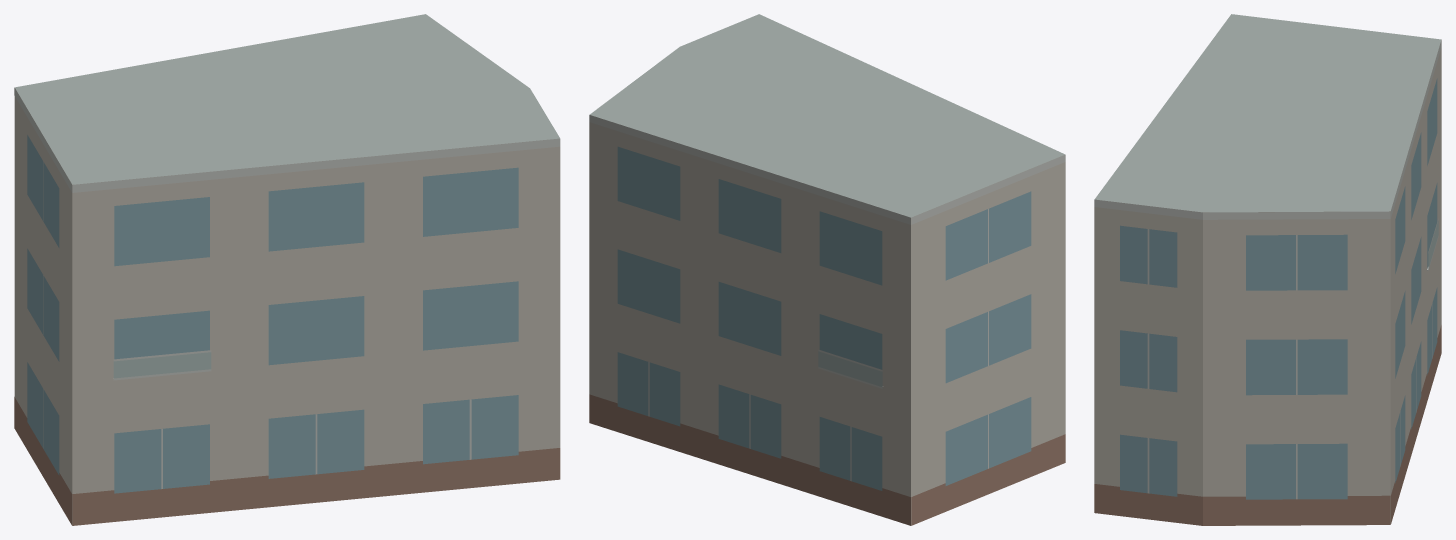
File: survey-upis-32969675.glb
3 views of the same model, side by side, from view 1: azimuth 30°, elevation 25°; view 2: azimuth 150°, elevation 25°; view 3: azimuth 270°, elevation 25° (orthographic). The views are drawn at different scales.
Parts seen in each view (by area): view 1: survey-upis-32969675.tmp; view 2: survey-upis-32969675.tmp; view 3: survey-upis-32969675.tmp.
Part boxes in pixels (x1=…): survey-upis-32969675.tmp: x1=14, y1=14, x2=560, y2=525; survey-upis-32969675.tmp: x1=589, y1=14, x2=1065, y2=525; survey-upis-32969675.tmp: x1=1094, y1=14, x2=1441, y2=525.
Size of the model in its own units: 13.85 by 10.2 by 10.25.
